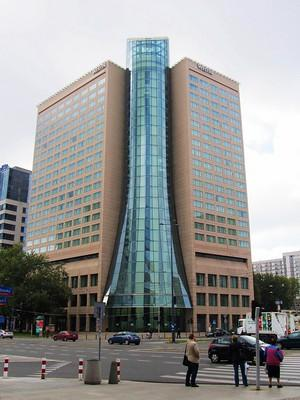building: (17, 58, 130, 318), (106, 27, 193, 335), (171, 58, 255, 329)
